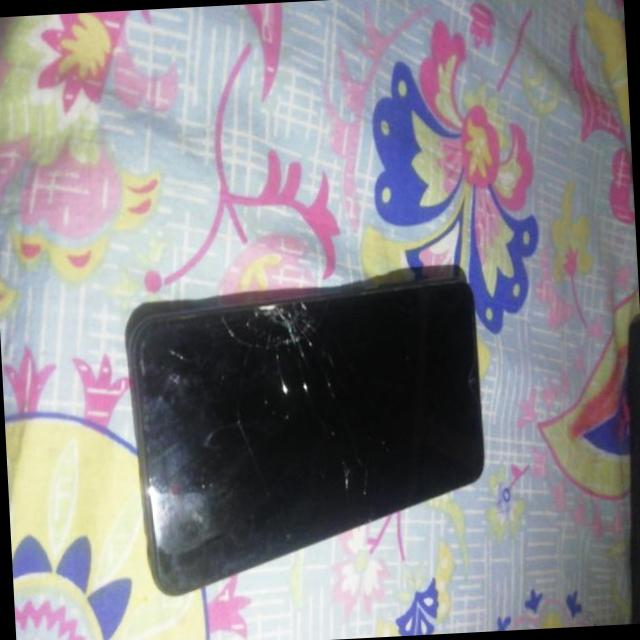screen crack: (220, 242, 383, 512)
